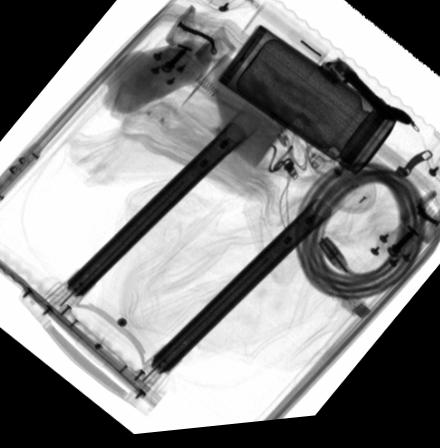Gun: (331, 63, 414, 134)
